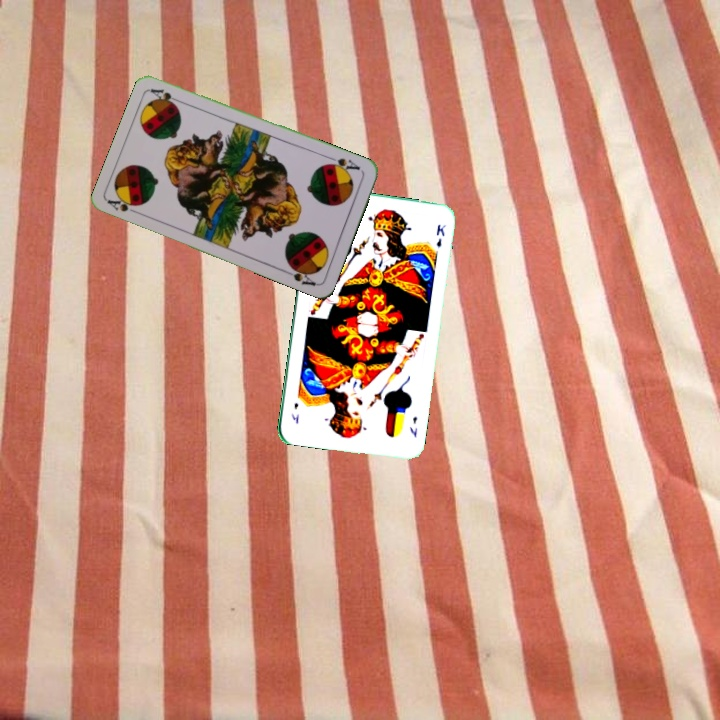EK: (406, 412, 420, 440)
SA: (322, 152, 363, 176), (104, 193, 144, 217)
